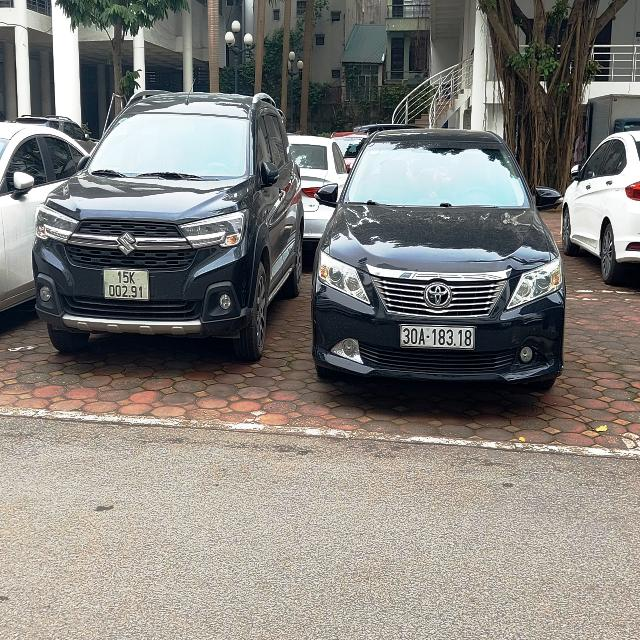license_plate: (401, 326, 475, 351), (105, 269, 150, 301)
